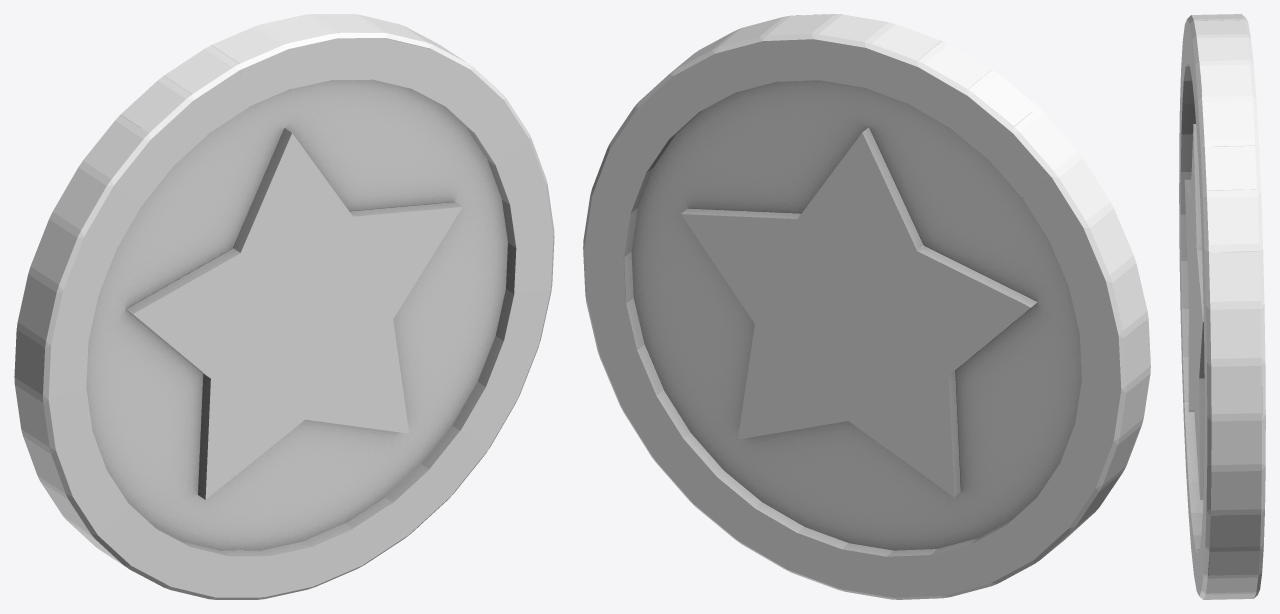
File: coin.glb
The picture shows the model from 3 angles, left to right: view 1: azimuth 30°, elevation 25°; view 2: azimuth 150°, elevation 25°; view 3: azimuth 270°, elevation 25°; orthographic projection. The views are drawn at different scales.
Visible parts, largest first — view 1: Cylinder; view 2: Cylinder; view 3: Cylinder.
Part boxes in pixels (bbox=[...]): Cylinder: bbox=[14, 14, 554, 599]; Cylinder: bbox=[583, 14, 1150, 599]; Cylinder: bbox=[1179, 14, 1265, 599].
Size of the model in its own units: 1 by 0.9981 by 0.1481.
1 material, 1 textured.
